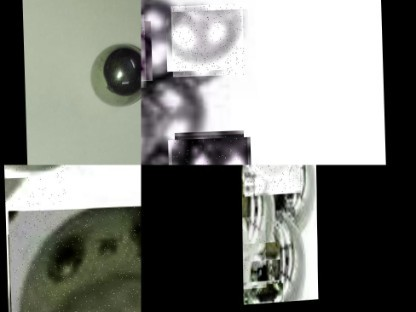ironball: (6, 205, 141, 311), (142, 76, 207, 161), (170, 5, 243, 78), (258, 210, 309, 301), (88, 40, 138, 108), (141, 0, 180, 76), (2, 164, 65, 207), (276, 166, 314, 228), (169, 135, 247, 164), (242, 164, 301, 195), (241, 217, 265, 290), (242, 283, 281, 306)
